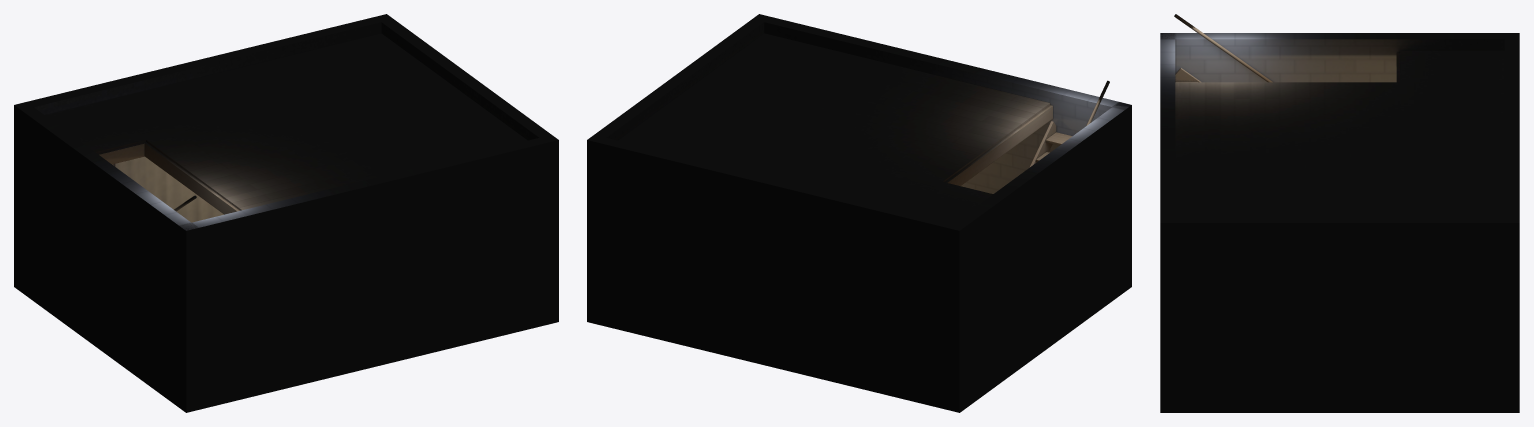
File: basement.glb
3 views of the same model, side by side, from view 1: azimuth 30°, elevation 25°; view 2: azimuth 150°, elevation 25°; view 3: azimuth 270°, elevation 25° (orthographic). The views are drawn at different scales.
Parts seen in each view (by area): view 1: Room; view 2: Room; view 3: Room.
Boxes of the visible parts, bbox=[...] form: Room: bbox=[14, 14, 558, 412]; Room: bbox=[587, 14, 1131, 412]; Room: bbox=[1160, 14, 1519, 412].
Bounding box in the file's own units: 6 × 3.29 × 4.8.
Materials: 5 (4 with a texture image).
